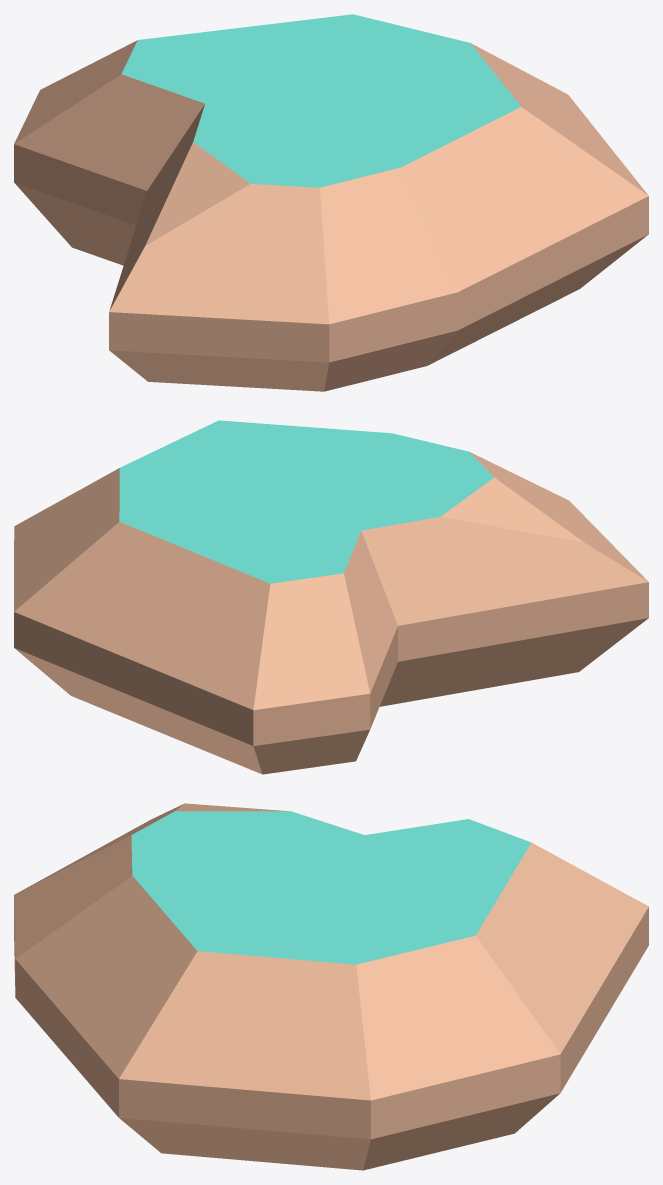
Rendered from rock_largeC.glb.
3 views of the same model, one above another, from view 1: azimuth 30°, elevation 25°; view 2: azimuth 150°, elevation 25°; view 3: azimuth 270°, elevation 25° (orthographic). The views are drawn at different scales.
Parts seen in each view (by area): view 1: rock_largeC; view 2: rock_largeC; view 3: rock_largeC.
Part boxes in pixels (<box>): rock_largeC: <box>14,14,648,391</box>; rock_largeC: <box>14,420,648,774</box>; rock_largeC: <box>14,803,648,1170</box>.
Bounding box in the file's own units: 1.06 × 0.3211 × 1.02.
Materials: 1 (1 with a texture image).
